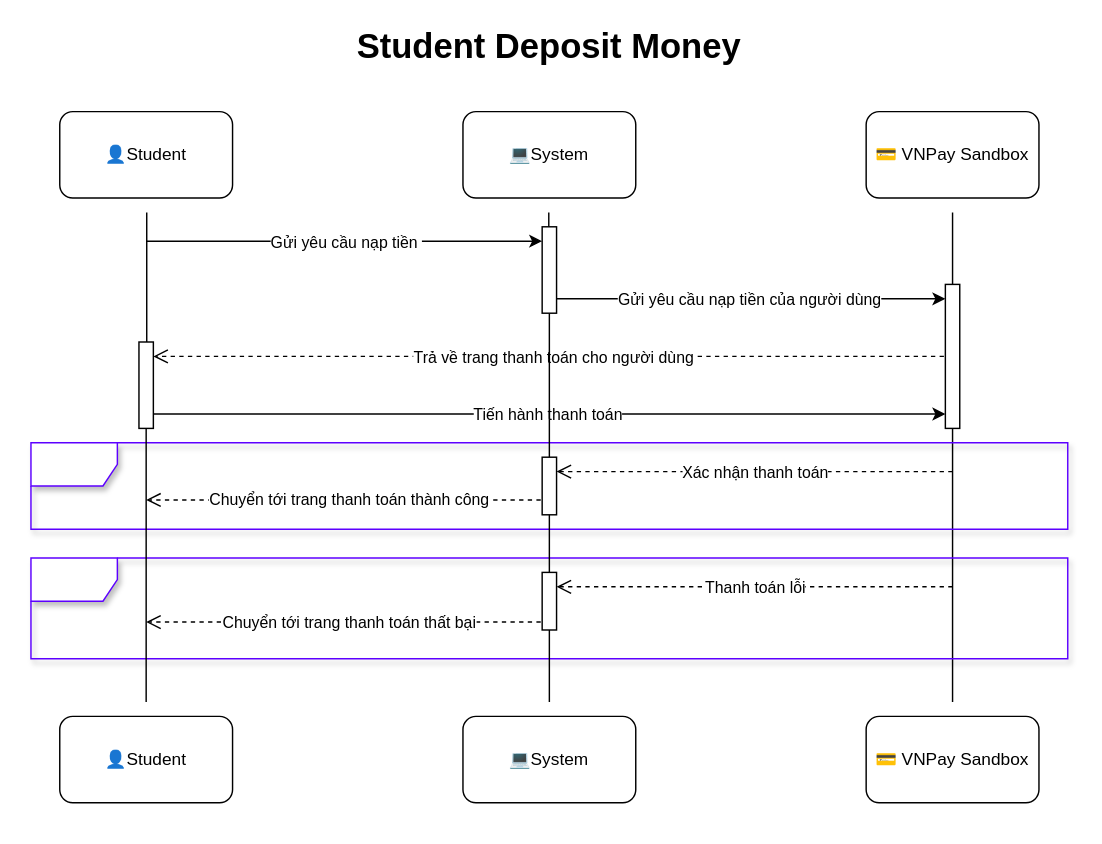
Image size: 1102x844. Some labels were removed from this diagram. The shapes that lost their labels are listed below. From the top down, each one's centre as x and y in pixels, then its label:
At (550,487): "Thành công".
At (550,610): "Thất bại".
